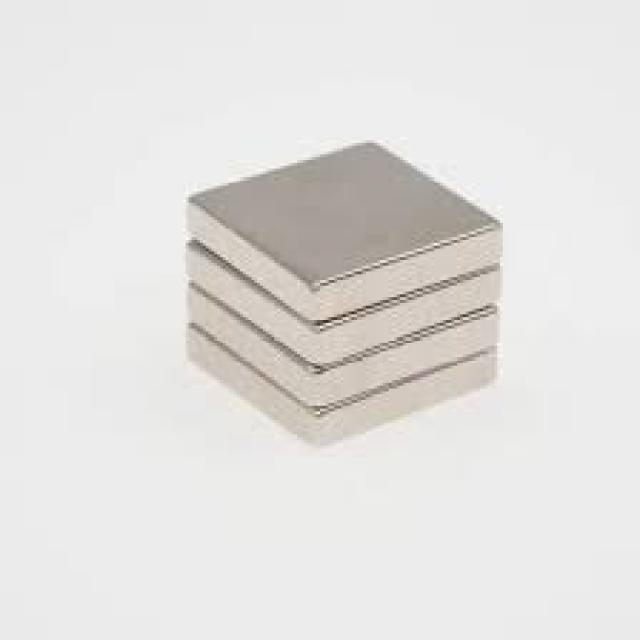Turning: (143, 87, 559, 512)
